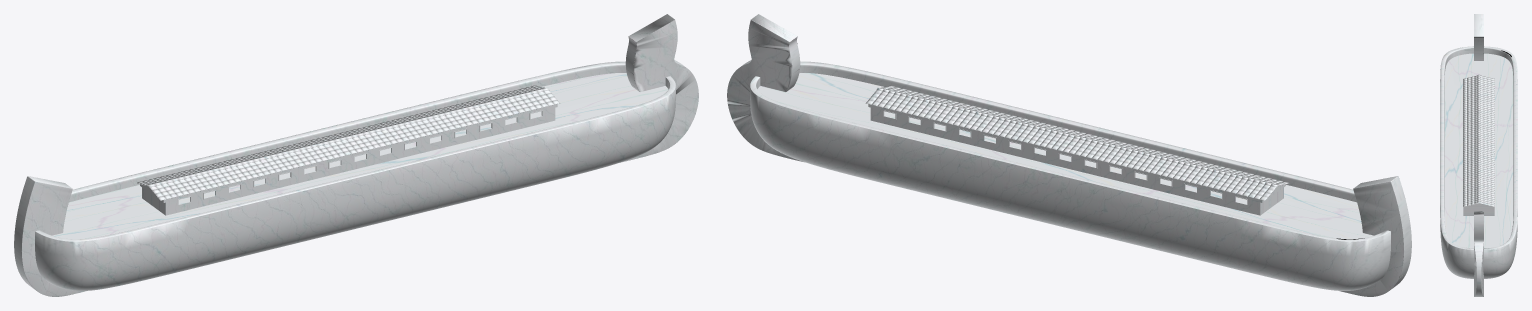
The model's file is arkgood2_nacre1.glb.
The picture shows the model from 3 angles, left to right: view 1: azimuth 30°, elevation 25°; view 2: azimuth 150°, elevation 25°; view 3: azimuth 270°, elevation 25°; orthographic projection. The views are drawn at different scales.
Visible parts, largest first — view 1: Hull, Deck, Fin, shingles, greenhouse, shinglestop, windowsill; view 2: Hull, Deck, Fin, shingles, greenhouse, shinglestop, windowsill; view 3: Deck, Hull, shingles, Fin, shinglestop, greenhouse.
Boxes of the visible parts, bbox=[...] form: Hull: bbox=[35, 61, 675, 290]; Deck: bbox=[52, 73, 668, 239]; Fin: bbox=[14, 14, 698, 296]; shingles: bbox=[136, 85, 559, 200]; greenhouse: bbox=[140, 104, 557, 215]; shinglestop: bbox=[147, 88, 549, 187]; windowsill: bbox=[178, 110, 542, 205]; Hull: bbox=[750, 61, 1390, 290]; Deck: bbox=[757, 73, 1373, 239]; Fin: bbox=[727, 14, 1411, 296]; shingles: bbox=[865, 85, 1288, 200]; greenhouse: bbox=[868, 104, 1285, 215]; shinglestop: bbox=[876, 88, 1278, 187]; windowsill: bbox=[883, 110, 1247, 205]; Deck: bbox=[1444, 53, 1513, 248]; Hull: bbox=[1440, 46, 1517, 278]; shingles: bbox=[1463, 75, 1494, 206]; Fin: bbox=[1474, 14, 1483, 296]; shinglestop: bbox=[1477, 74, 1480, 202]; greenhouse: bbox=[1463, 203, 1494, 215].
Size of the model in its own units: 33.11 by 6.04 by 5.
Materials: 7 (7 with a texture image).
